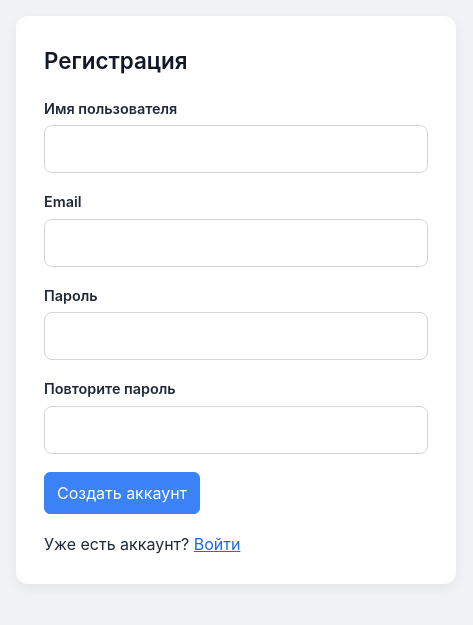
it: Таймер и сообщения формы › показывает ошибку регистрации после выхода из поля
Type "я" into the field labelled "Имя пользователя". click: (236, 149)
box: x1=44 y1=125 x2=428 y2=173
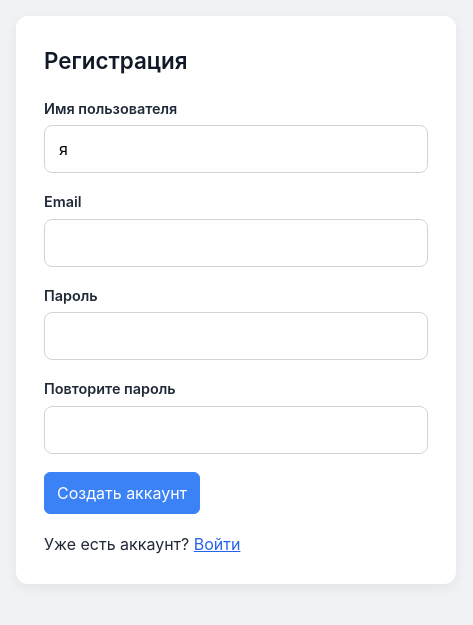
Expected: the text "3–50 символов: латиница, цифры, _." is not shown
Leave the field labelled "Имя пользователя", box x1=44 y1=125 x2=428 y2=173
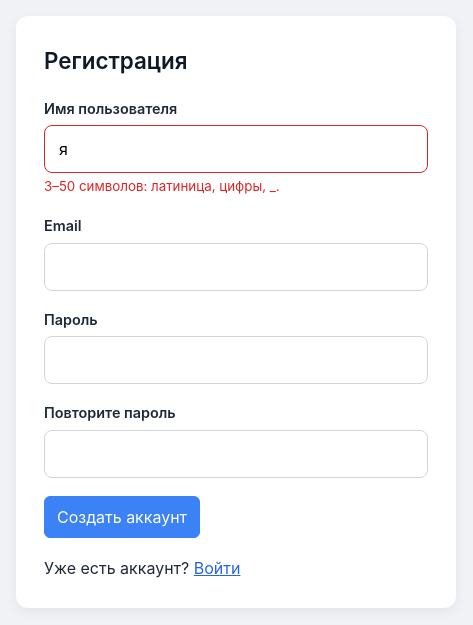
Expected: the text "3–50 символов: латиница, цифры, _." is shown, x1=44 y1=178 x2=280 y2=194
Replace the text in the field labelled "Имя пользователя" with "lisa". click: (236, 149)
box: x1=44 y1=125 x2=428 y2=173
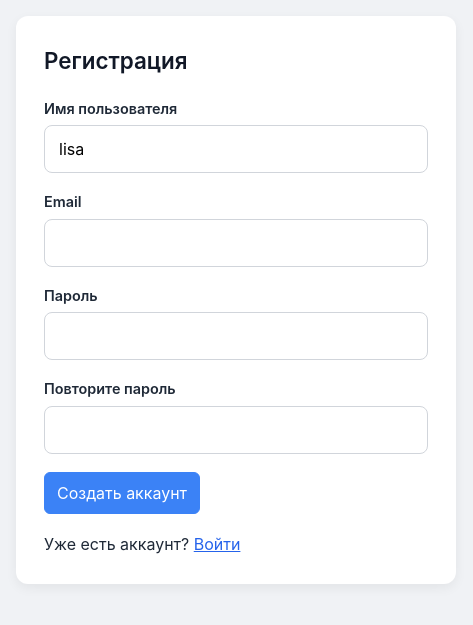
Expected: the text "3–50 символов: латиница, цифры, _." is gone
